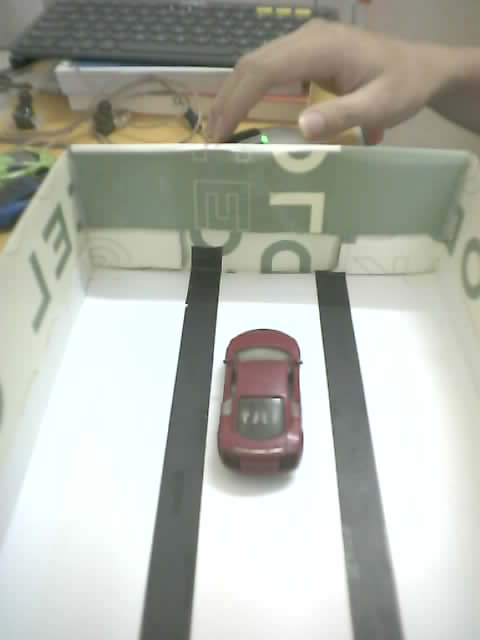vehicle: (210, 329, 304, 495)
